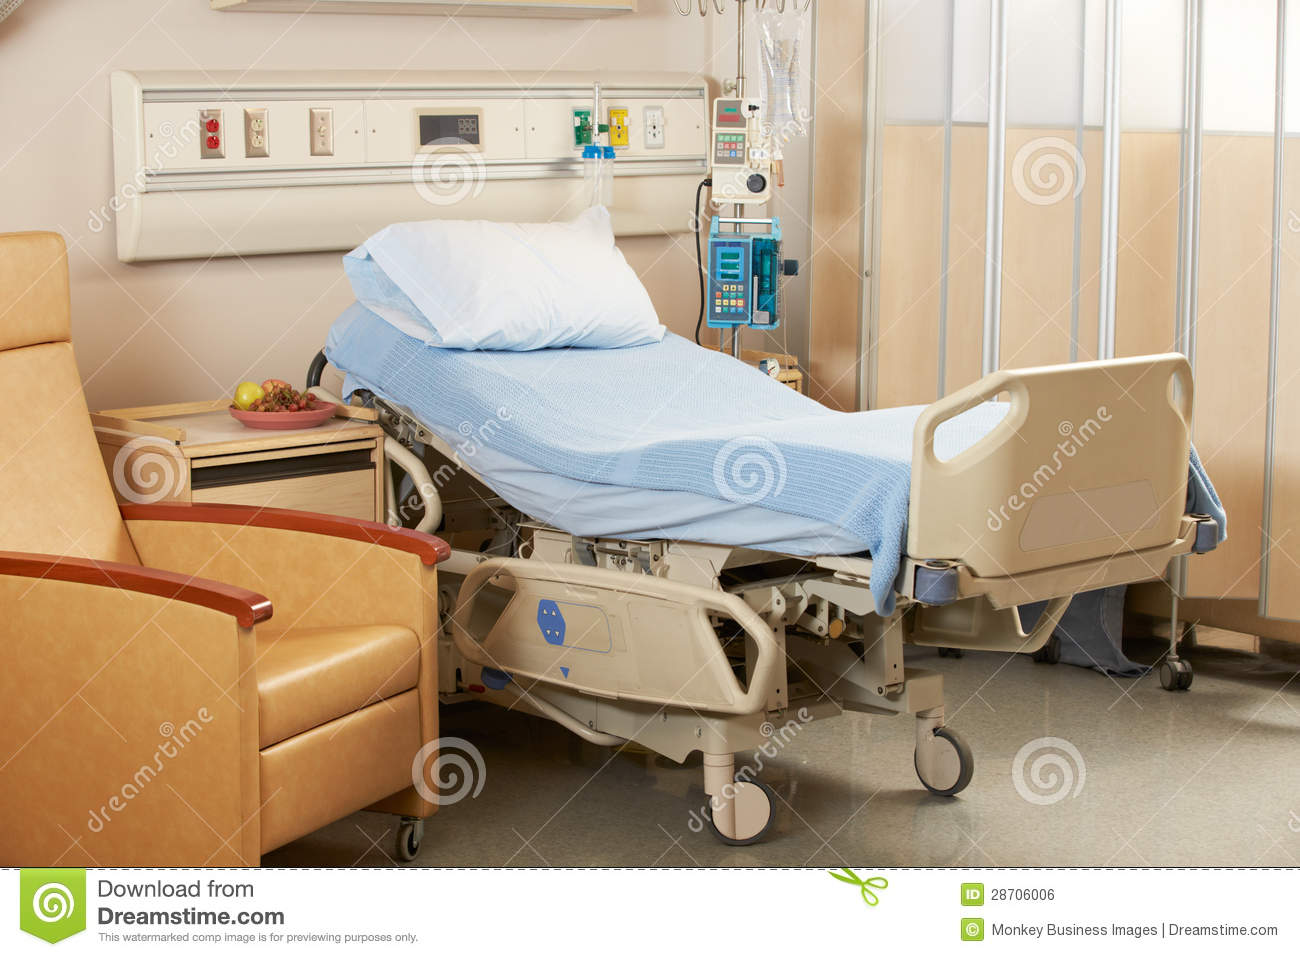hospital bed: (324, 199, 1254, 621)
